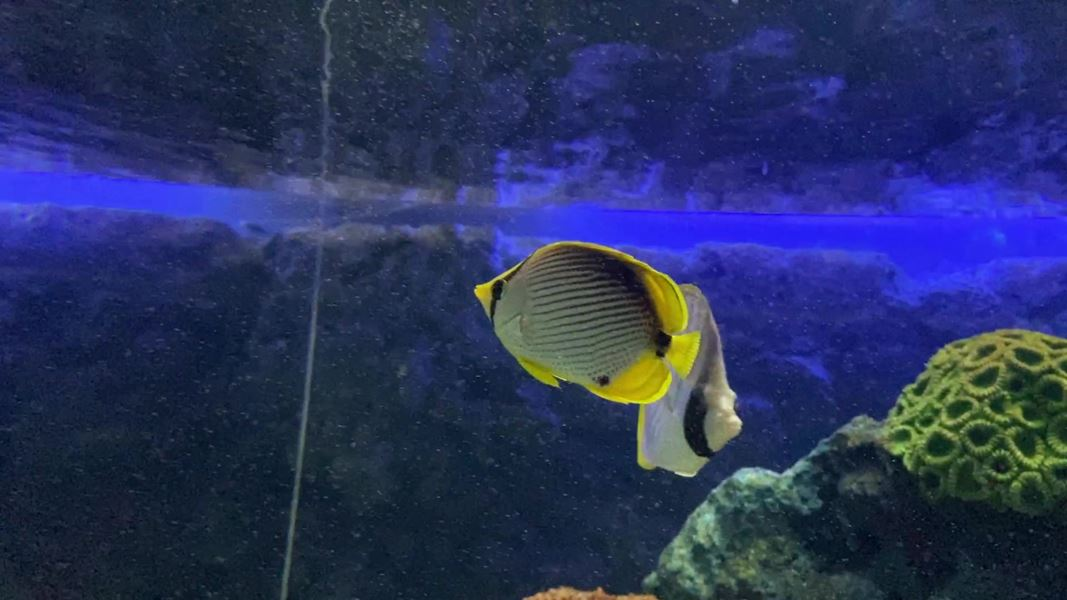Black-backed butterflyfish: (467, 233, 732, 417)
